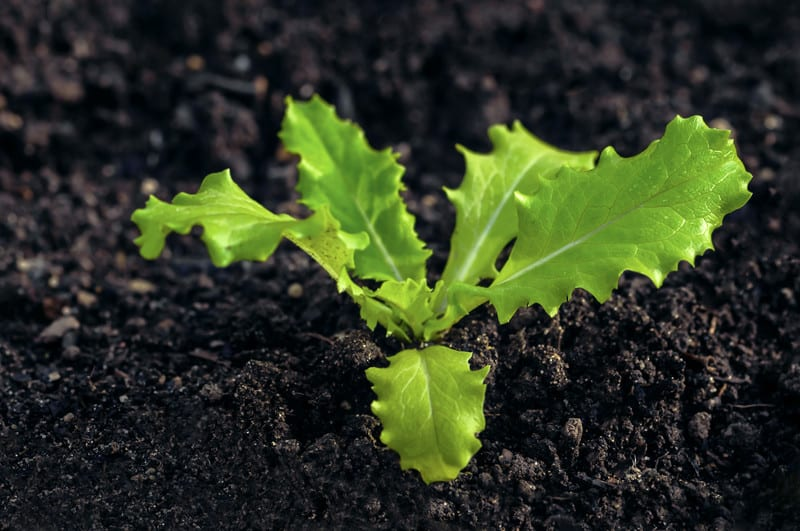lettuce: (85, 88, 734, 458)
